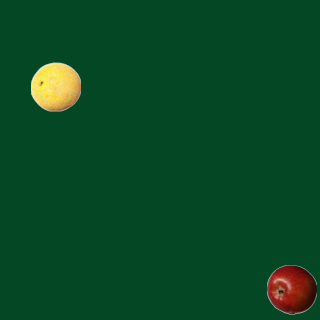Apple Braeburn: (266, 264, 316, 314)
Cantaloupe 1: (30, 61, 80, 111)
